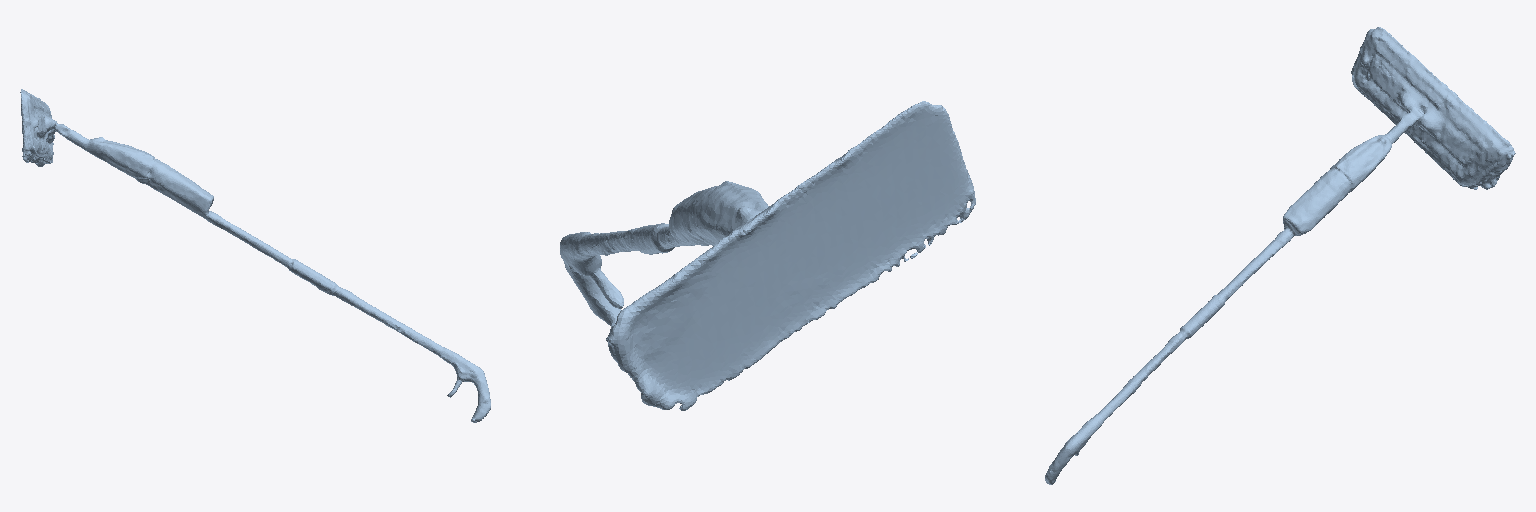
URDF robot description (mop.urdf):
<?xml version="1.0" ?>
<robot name="mop.urdf">
  <dynamics damping="0.5" friction="0.9"/>
  <link name="baseLink">
    <contact>
      <lateral_friction value="0.9"/>
      <rolling_friction value="0.5"/>
      <stiffness value="30000"/>
      <damping value="1000"/>
    </contact>
    <visual>
      <origin rpy="0 0 0" xyz="0 0 0"/>
      <geometry>
        <mesh filename="objects/mop/mop.obj" scale="1.0 1.0 1.0"/>
      </geometry>
       <material name="mat">
        <color rgba="0.7 0.8 0.9 1"/>
      </material>
    </visual>
    <collision>
      <origin rpy="0 0 0" xyz="0 0 0"/>
      <geometry>
	 	<mesh filename="objects/mop/mop.obj" scale="1.0 1.0 1.0"/>
      </geometry>
    </collision>
  </link>
</robot>

--- What the picture shows (computed from the rendered views, not written in the file) ---
The picture shows the robot from 3 angles, left to right: view 1: azimuth 30°, elevation 25°; view 2: azimuth 150°, elevation 25°; view 3: azimuth 270°, elevation 25°; orthographic projection.
Robot: mop.urdf — 1 links, 0 joints (none); root link baseLink; default pose: all joints at 0.
Visible links, largest first — view 1: baseLink; view 2: baseLink; view 3: baseLink.
Boxes of the visible links, x1,y1,x2,y2 form: baseLink: (20,89,490,422); baseLink: (560,101,975,410); baseLink: (1045,27,1515,484).
Bounding box of the posed robot: 0.8468 × 1.01 × 0.7206 m (x, y, z).
1 mesh visuals loaded from 1 distinct referenced files (1 OBJ).